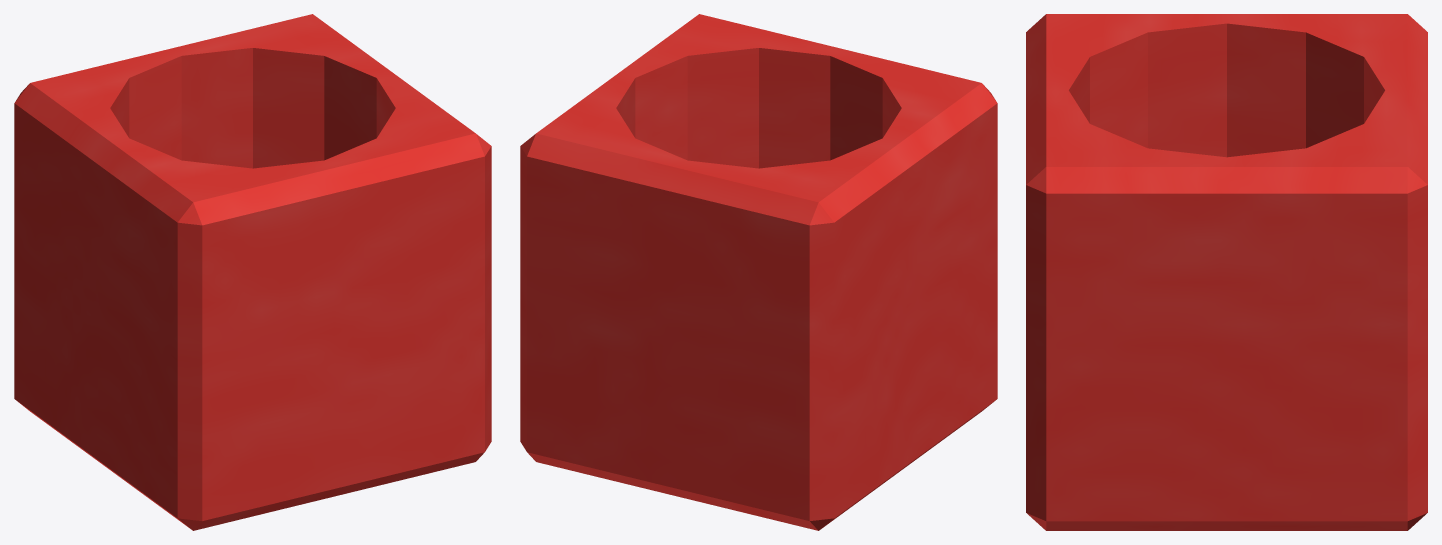
The model's file is FullBridge.fbx.
The picture shows the model from 3 angles, left to right: view 1: azimuth 30°, elevation 25°; view 2: azimuth 150°, elevation 25°; view 3: azimuth 270°, elevation 25°; orthographic projection. The views are drawn at different scales.
Visible parts, largest first — view 1: FullBridge; view 2: FullBridge; view 3: FullBridge.
Part boxes in pixels (x1,y1,x2,y2): FullBridge: (14, 14, 491, 530); FullBridge: (520, 14, 997, 530); FullBridge: (1026, 14, 1427, 530).
Size of the model in its own units: 100 by 100 by 100.
